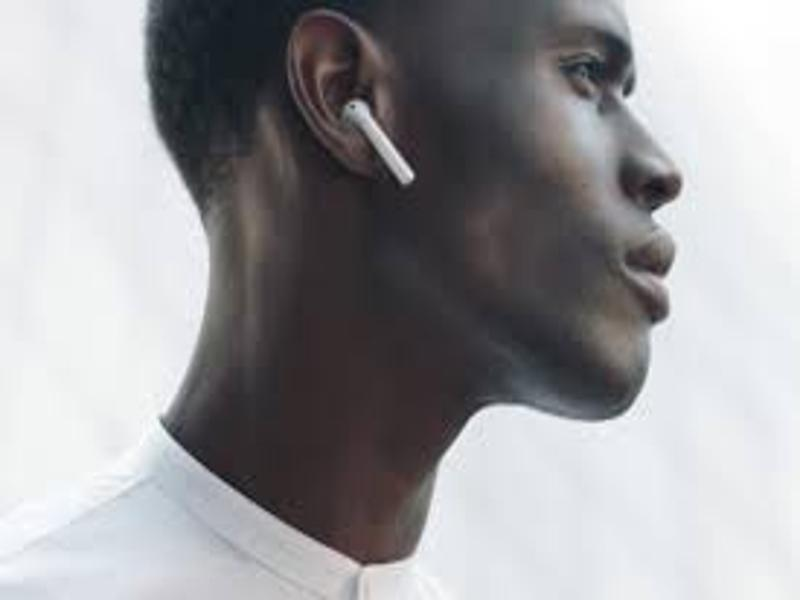headphone: (337, 97, 418, 189)
